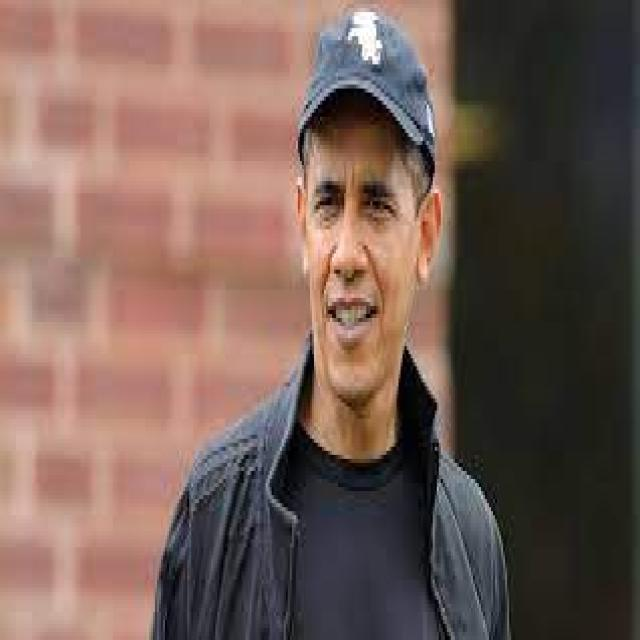3_gorra: (296, 8, 437, 166)
